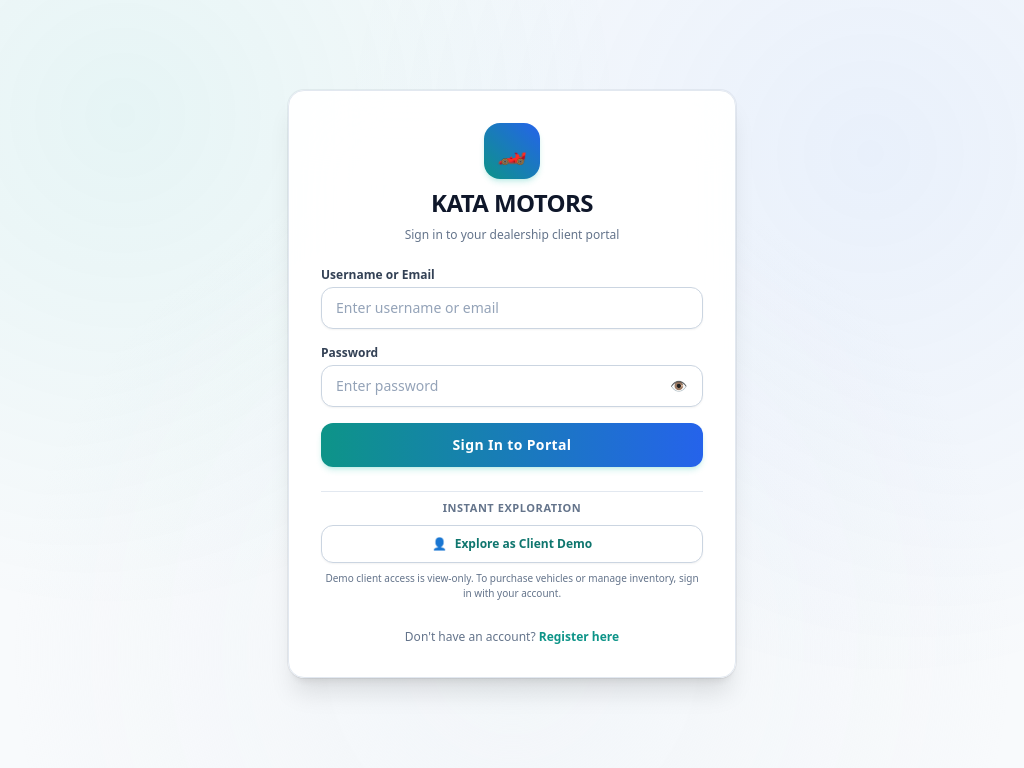
Test: LoginForm › displays error message when login fails
In the field with placeholder "Enter username or email": (512, 308) [321, 287, 703, 329], type "wrong@dealership.com"
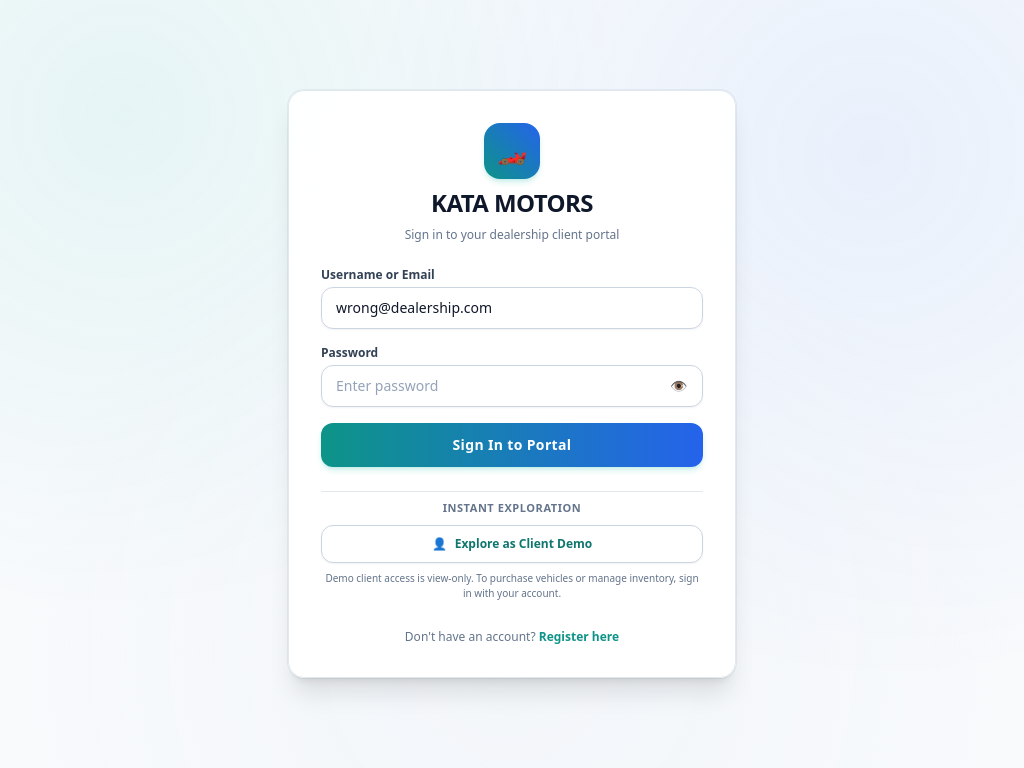
In the password field with placeholder "Enter password": (512, 386) [321, 365, 703, 407], type "wrongpass"
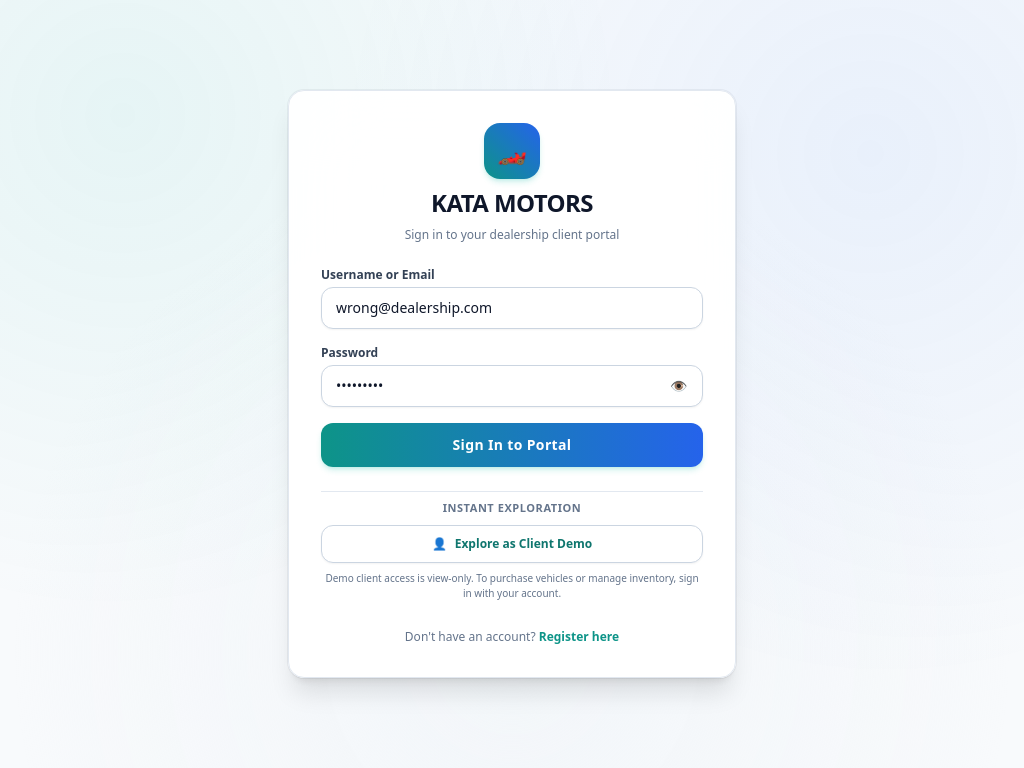
Click the button "Sign In to Portal": (512, 445) [321, 423, 703, 467]
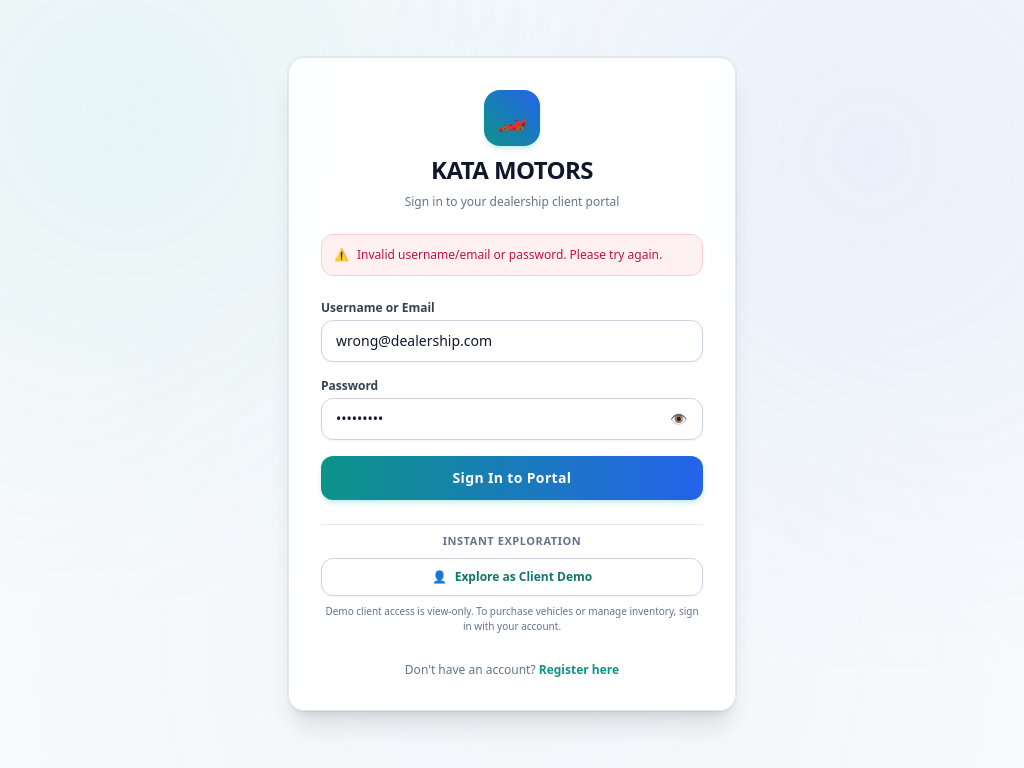
Now the text "⚠️ Invalid username/email or password. Please try again." is shown, box [321, 234, 703, 276]
